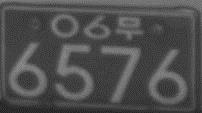0: (50, 12, 80, 39)
5: (53, 42, 95, 102)
6: (147, 47, 188, 105), (7, 41, 48, 98), (83, 13, 111, 39)
7: (99, 43, 142, 104)
무: (115, 15, 143, 40)
